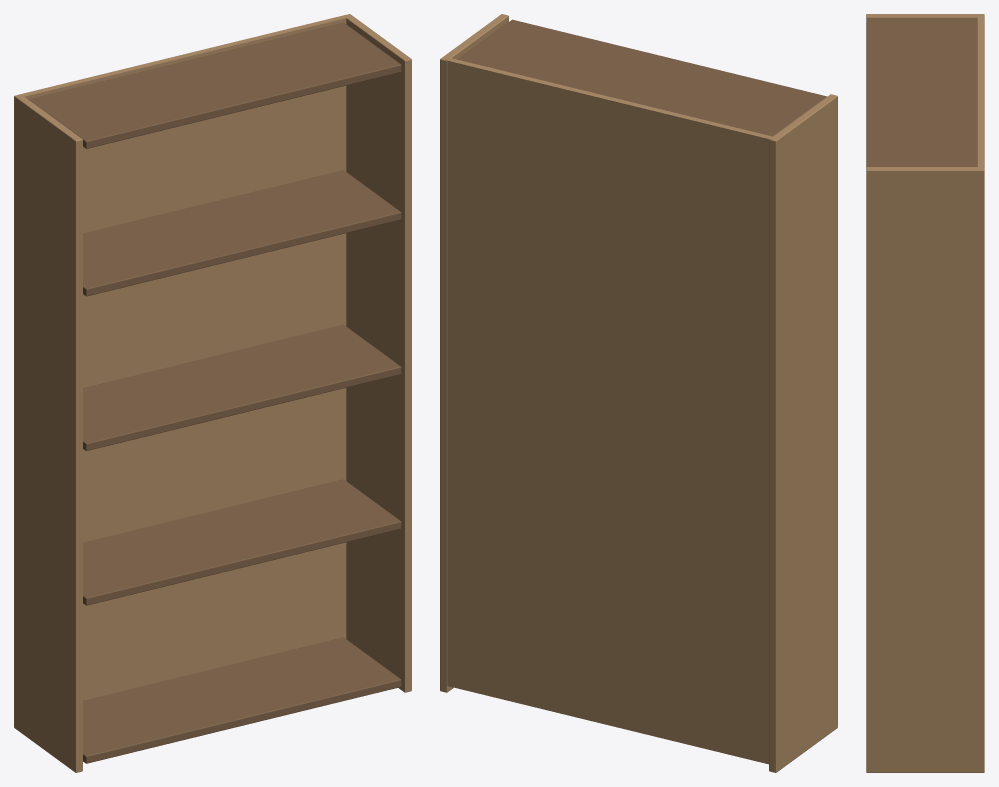
The model's file is furniture-bookshelf.glb.
3 renders of one model, left to right at view 1: azimuth 30°, elevation 25°; view 2: azimuth 150°, elevation 25°; view 3: azimuth 270°, elevation 25°, orthographic. The views are drawn at different scales.
Parts seen in each view (by area): view 1: Back.002, SideL, SideR, Shelf4, Shelf0, Shelf3, Shelf1, Shelf2; view 2: Back.002, SideL, Shelf4, SideR; view 3: SideR, Shelf4, Back.002, SideL.
Part boxes in pixels (left/top/right/bottom): Back.002: left=18, top=14, right=349, bottom=700; SideL: left=14, top=94, right=82, bottom=772; SideR: left=346, top=14, right=411, bottom=692; Shelf4: left=28, top=22, right=401, bottom=148; Shelf0: left=83, top=637, right=401, bottom=763; Shelf3: left=83, top=170, right=401, bottom=296; Shelf1: left=83, top=479, right=401, bottom=605; Shelf2: left=83, top=324, right=401, bottom=450; Back.002: left=444, top=58, right=775, bottom=764; SideL: left=769, top=94, right=837, bottom=772; Shelf4: left=458, top=19, right=827, bottom=136; SideR: left=440, top=14, right=508, bottom=692; SideR: left=866, top=167, right=984, bottom=772; Shelf4: left=866, top=22, right=977, bottom=167; Back.002: left=977, top=15, right=984, bottom=168; SideL: left=866, top=14, right=984, bottom=166.
Size of the model in its own units: 1 by 1.8 by 0.32.
